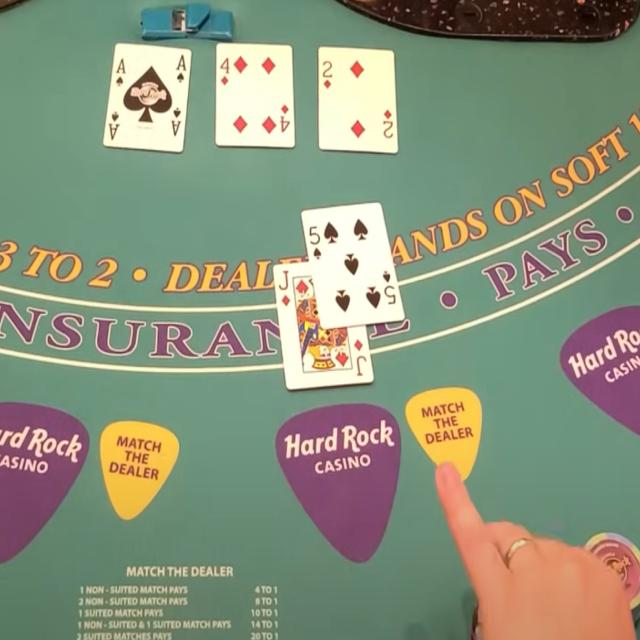2: (322, 58, 334, 79)
4: (219, 54, 231, 74)
5: (306, 223, 322, 246)
A: (114, 55, 128, 75)
J: (276, 266, 290, 292)
